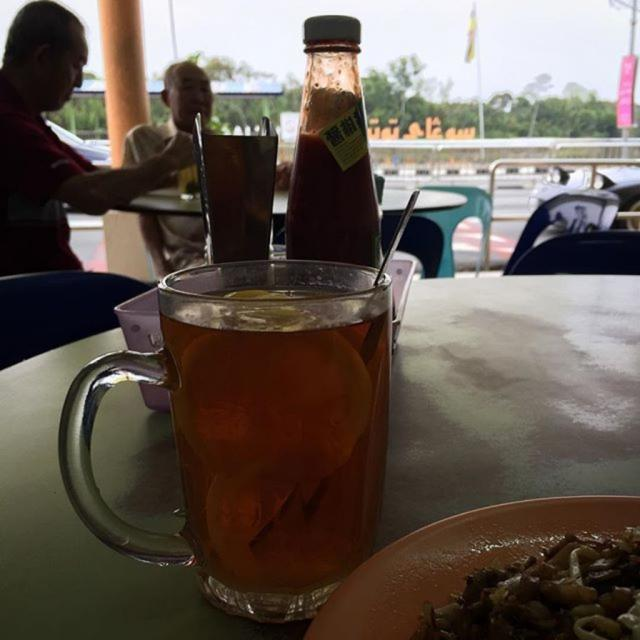Tea: (161, 285, 394, 590)
